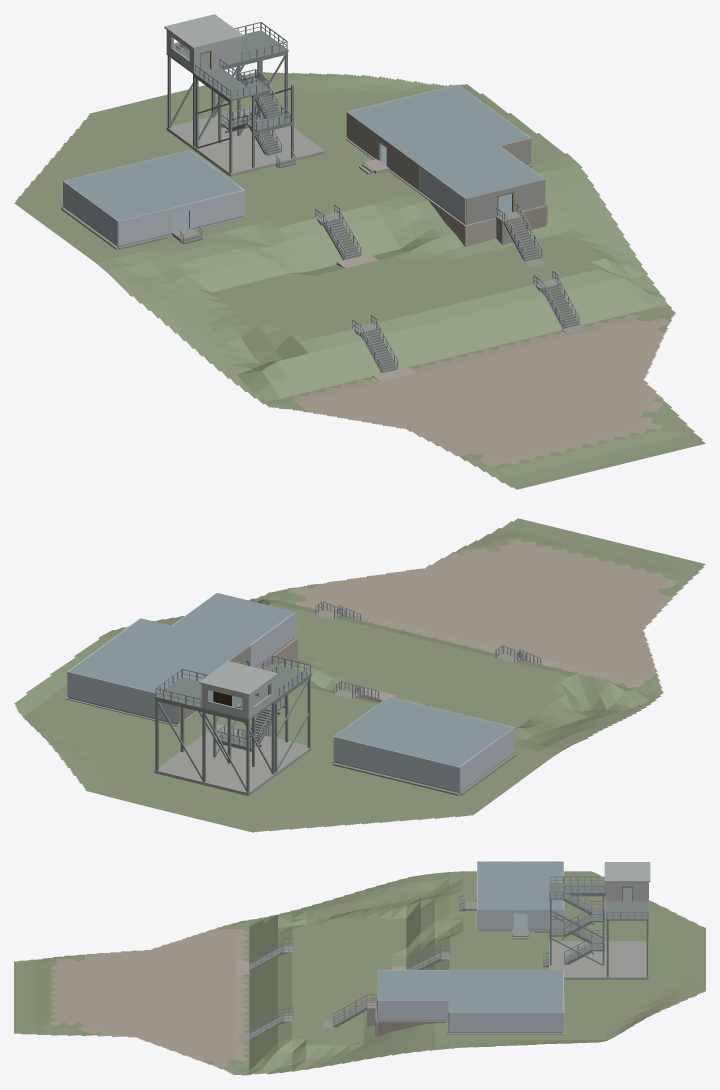
The model's file is lookout-cover.glb.
3 views of the same model, one above another, from view 1: azimuth 30°, elevation 25°; view 2: azimuth 150°, elevation 25°; view 3: azimuth 270°, elevation 25° (orthographic). The views are drawn at different scales.
Parts seen in each view (by area): view 1: WLD-04 saved ground, Ceiling cap ruin, Ceiling cap hut, WLD-04 restart continuous grounded tower plinth region0, Ceiling cap store, Bayed shell Wall hut S, WLD-04 restart cab closed roof region0, Wall hut W, WLD-04 restart cab and observation deck region0, Wall store W, WLD-04 restart west level access gallery region0, Widow's Peak ruin west entrance ruin west entrance preceding (+4 smaller); view 2: WLD-04 saved ground, Ceiling cap ruin, Ceiling cap hut, WLD-04 restart continuous grounded tower plinth region0, Ceiling cap store, Wall hut N, Wall ruin N, WLD-04 restart cab closed roof region0, Wall hut W, WLD-04 restart cab and observation deck region0, Wall store W, WLD-04 restart west level access gallery region0; view 3: WLD-04 saved ground, Ceiling cap ruin, Ceiling cap hut, WLD-04 restart continuous grounded tower plinth region0, Wall ruin E, Ceiling cap store, Wall store E, WLD-04 restart cab closed roof region0, WLD-04 restart cab and observation deck region0, Flat route shell Wall hut E.001, WLD-04 restart west level access gallery region0, Flat route shell Wall hut E (+1 smaller).
Part boxes in pixels (bbox=[...]): WLD-04 saved ground: bbox=[14, 72, 705, 489]; Ceiling cap ruin: bbox=[348, 85, 529, 164]; Ceiling cap hut: bbox=[64, 150, 242, 220]; WLD-04 restart continuous grounded tower plinth region0: bbox=[166, 106, 324, 176]; Ceiling cap store: bbox=[420, 146, 544, 198]; Bayed shell Wall hut S: bbox=[118, 190, 244, 245]; WLD-04 restart cab closed roof region0: bbox=[164, 14, 243, 49]; Wall hut W: bbox=[63, 181, 118, 245]; WLD-04 restart cab and observation deck region0: bbox=[166, 30, 288, 74]; Wall store W: bbox=[419, 165, 465, 223]; WLD-04 restart west level access gallery region0: bbox=[194, 67, 256, 101]; Widow's Peak ruin west entrance ruin west entrance preceding: bbox=[346, 112, 378, 159]; WLD-04 saved ground: bbox=[14, 518, 705, 832]; Ceiling cap ruin: bbox=[69, 619, 247, 693]; Ceiling cap hut: bbox=[334, 697, 513, 766]; WLD-04 restart continuous grounded tower plinth region0: bbox=[154, 724, 311, 795]; Ceiling cap store: bbox=[172, 593, 294, 644]; Wall hut N: bbox=[334, 736, 459, 791]; Wall ruin N: bbox=[67, 671, 177, 722]; WLD-04 restart cab closed roof region0: bbox=[199, 661, 278, 695]; Wall hut W: bbox=[459, 727, 514, 791]; WLD-04 restart cab and observation deck region0: bbox=[154, 677, 275, 720]; Wall store W: bbox=[250, 612, 295, 667]; WLD-04 restart west level access gallery region0: bbox=[259, 667, 311, 700]; WLD-04 saved ground: bbox=[14, 871, 705, 1075]; Ceiling cap ruin: bbox=[449, 970, 563, 1012]; Ceiling cap hut: bbox=[477, 861, 563, 909]; WLD-04 restart continuous grounded tower plinth region0: bbox=[549, 941, 648, 979]; Wall ruin E: bbox=[449, 1012, 563, 1031]; Ceiling cap store: bbox=[378, 970, 449, 1000]; Wall store E: bbox=[378, 1000, 448, 1019]; WLD-04 restart cab closed roof region0: bbox=[604, 862, 650, 882]; WLD-04 restart cab and observation deck region0: bbox=[606, 887, 648, 920]; Flat route shell Wall hut E.001: bbox=[477, 910, 513, 929]; WLD-04 restart west level access gallery region0: bbox=[549, 883, 605, 894]; Flat route shell Wall hut E: bbox=[527, 910, 563, 929].
Bounding box in the file's own units: 59 × 18.75 × 97.
34 materials, 18 textured.
